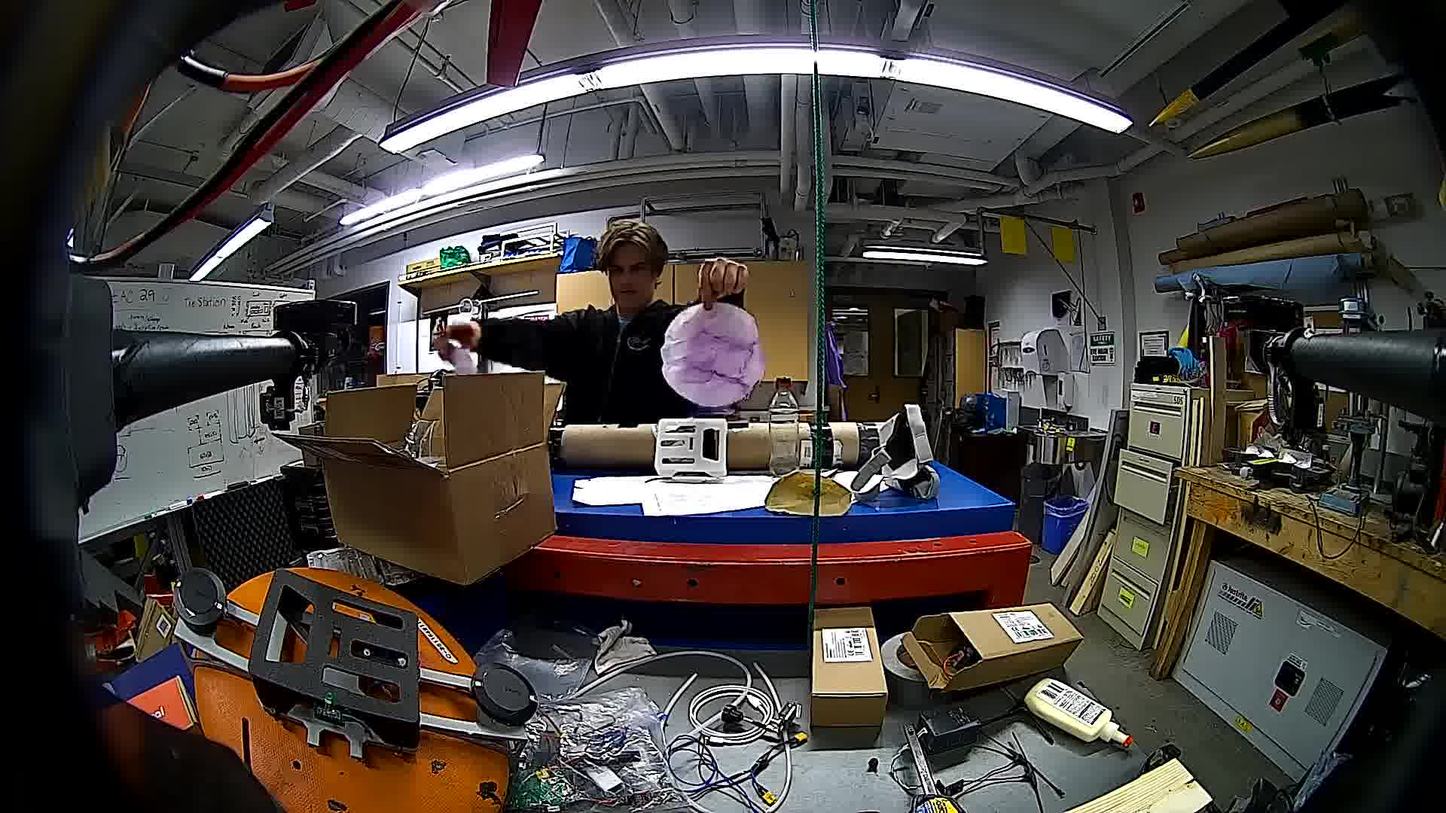Target: (662, 302, 764, 408)
